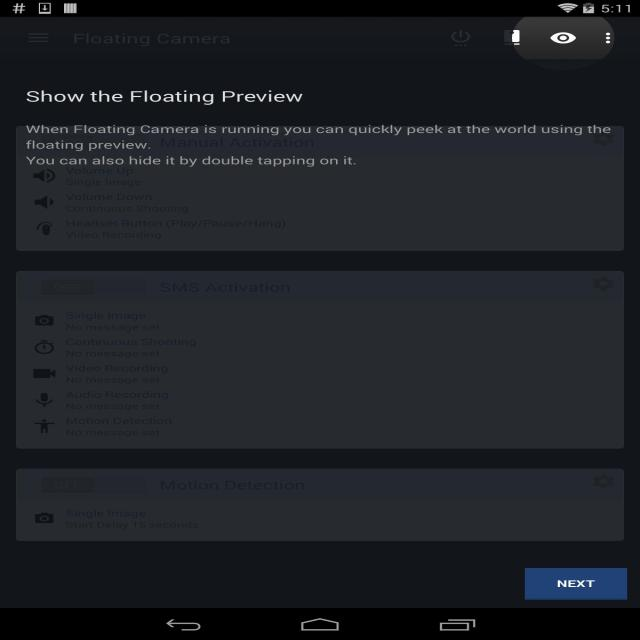button: (524, 568, 628, 599), (539, 27, 584, 50), (594, 28, 618, 48)
heading: (20, 119, 619, 170), (22, 87, 310, 106)
